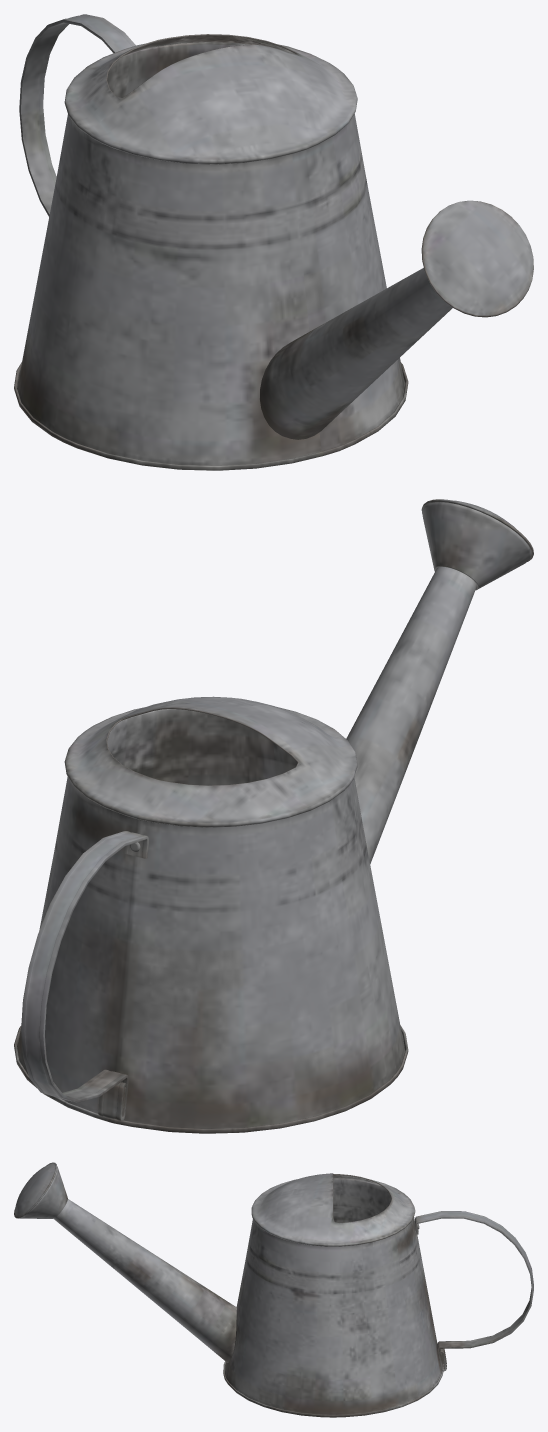
Rendered from watering_can_metal_01.glb.
The picture shows the model from 3 angles, top to bottom: view 1: azimuth 30°, elevation 25°; view 2: azimuth 150°, elevation 25°; view 3: azimuth 270°, elevation 25°; orthographic projection. The views are drawn at different scales.
Parts seen in each view (by area): view 1: watering_can_metal_01; view 2: watering_can_metal_01; view 3: watering_can_metal_01.
Part boxes in pixels (x1,y1,x2,y2): watering_can_metal_01: (14,14,533,470); watering_can_metal_01: (14,499,533,1133); watering_can_metal_01: (14,1162,533,1417).
Size of the model in its own units: 0.191 by 0.1968 by 0.4523.
Materials: 1 (1 with a texture image).
